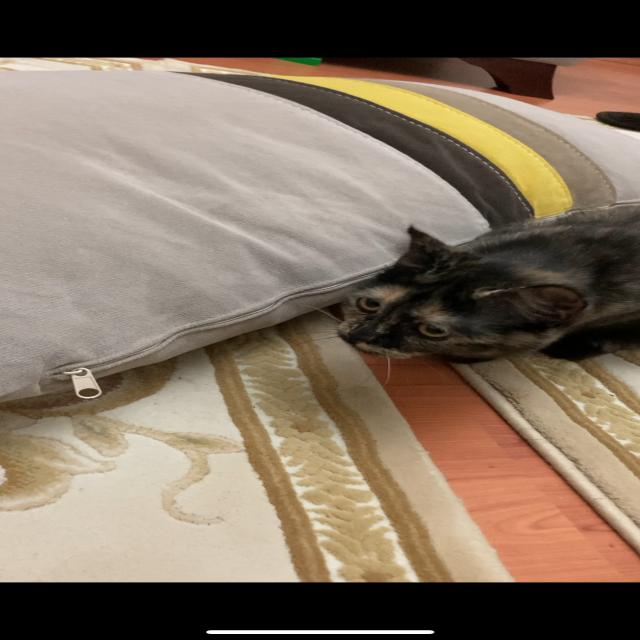authorized: (333, 210, 638, 364)
